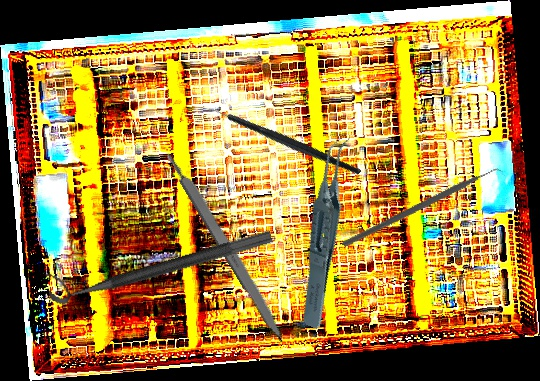Chopper: (341, 119, 510, 301), (197, 62, 362, 222)
Fixation Ring: (43, 211, 274, 307)
Scalpel Handle: (163, 147, 291, 346)
Tissue Forceps: (264, 131, 392, 331)
